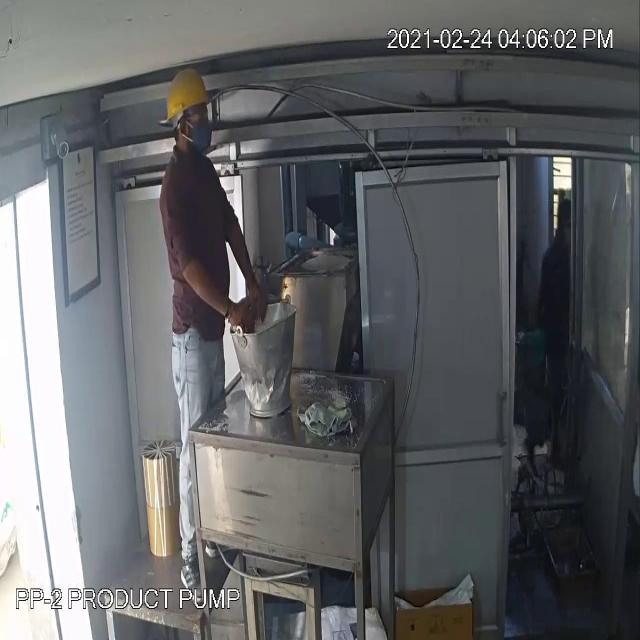helmet: (160, 59, 212, 122)
